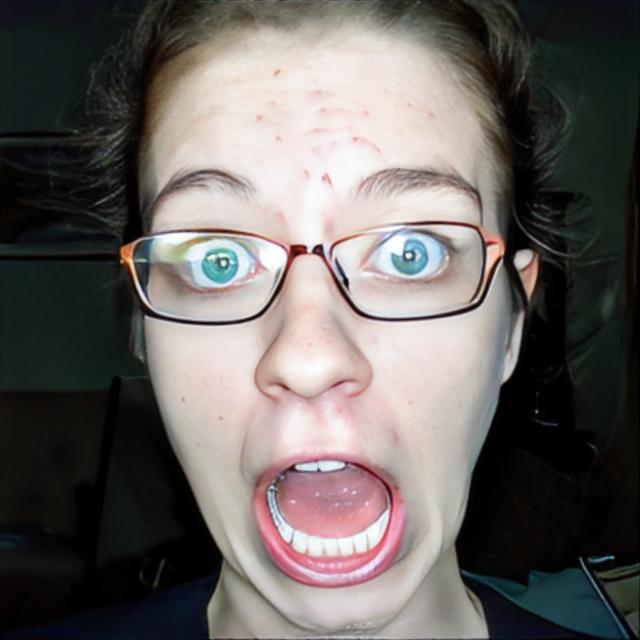fear: (142, 20, 504, 492)
